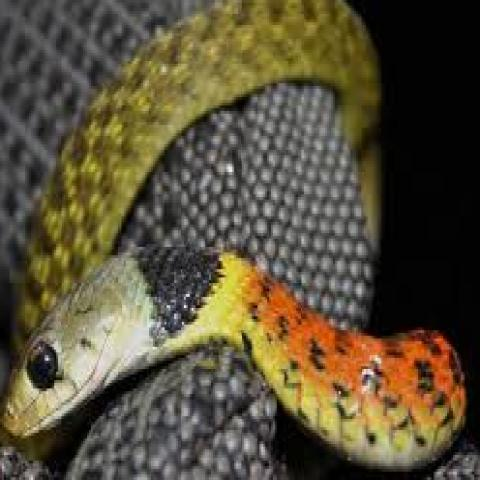snake: (1, 1, 480, 480)
